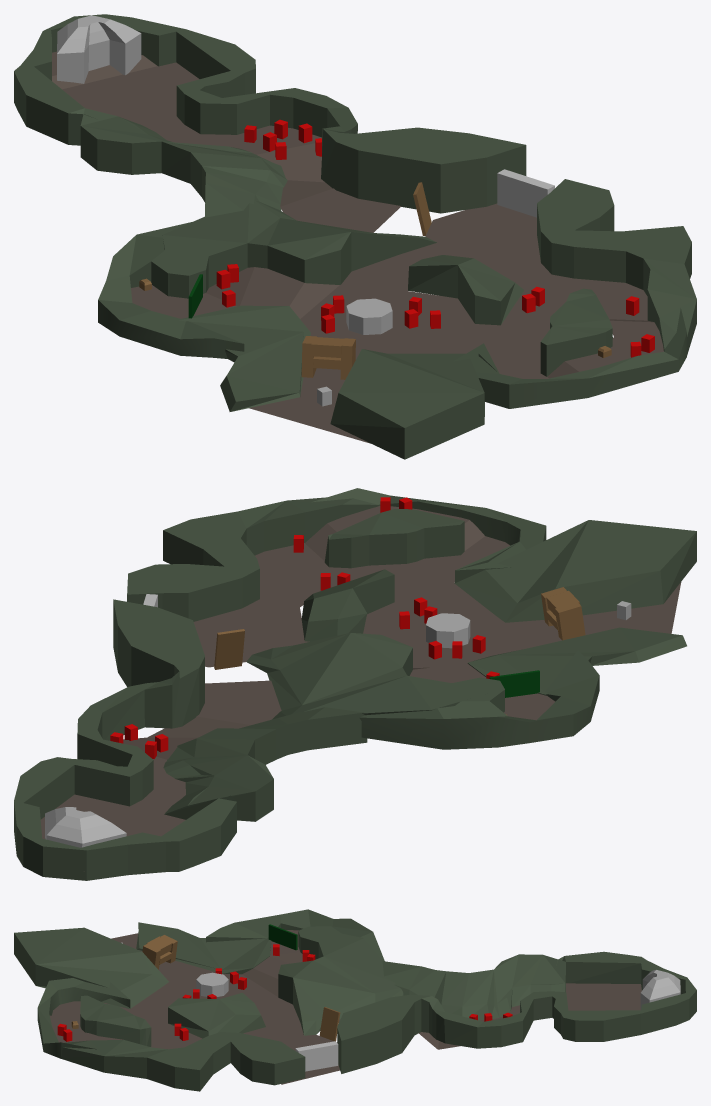
File: Level1.fbx
The picture shows the model from 3 angles, top to bottom: view 1: azimuth 30°, elevation 25°; view 2: azimuth 150°, elevation 25°; view 3: azimuth 270°, elevation 25°; orthographic projection. The views are drawn at different scales.
Parts seen in each view (by area): view 1: polySurface1, pPlane1, polySurface2, pPlane2, pCube44, pCube1, pCylinder1; view 2: polySurface1, pPlane1, polySurface2, pPlane2, pCube44, pCylinder1, pCube43, pCube38, pCube39; view 3: polySurface1, pPlane1, polySurface2, pPlane2, pCube44, pCube1, pCylinder1, pCube43, pCube38.
Part boxes in pixels (bbox=[...]): polySurface1: bbox=[14, 14, 696, 459]; pPlane1: bbox=[131, 203, 663, 443]; polySurface2: bbox=[98, 222, 686, 408]; pPlane2: bbox=[52, 51, 401, 232]; pCube44: bbox=[57, 15, 141, 83]; pCube1: bbox=[497, 169, 554, 217]; pCylinder1: bbox=[346, 298, 392, 334]; polySurface1: bbox=[14, 497, 696, 880]; pPlane1: bbox=[193, 506, 681, 720]; polySurface2: bbox=[312, 488, 599, 749]; pPlane2: bbox=[40, 680, 281, 871]; pCube44: bbox=[45, 807, 126, 847]; pCylinder1: bbox=[426, 613, 470, 648]; pCube43: bbox=[214, 629, 244, 669]; pCube38: bbox=[489, 670, 539, 697]; pCube39: bbox=[555, 602, 585, 640]; polySurface1: bbox=[14, 922, 696, 1091]; pPlane1: bbox=[50, 930, 339, 1084]; polySurface2: bbox=[37, 909, 384, 1058]; pPlane2: bbox=[339, 983, 641, 1049]; pCube44: bbox=[640, 970, 680, 1009]; pCube1: bbox=[295, 1041, 338, 1071]; pCylinder1: bbox=[196, 972, 228, 996]; pCube43: bbox=[319, 1007, 340, 1041]; pCube38: bbox=[268, 924, 297, 950].
Size of the model in its own units: 16.72 by 2.06 by 28.91.
